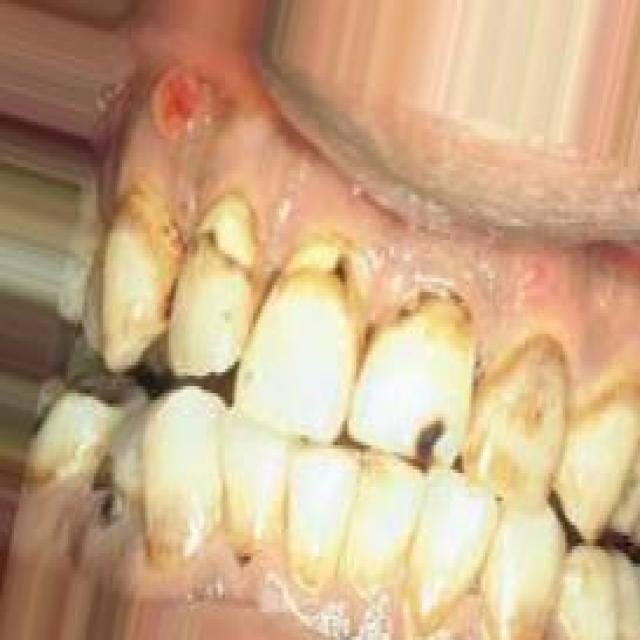caries: (280, 224, 372, 308), (78, 427, 140, 540), (380, 266, 461, 340), (186, 190, 258, 272), (406, 398, 456, 470)
